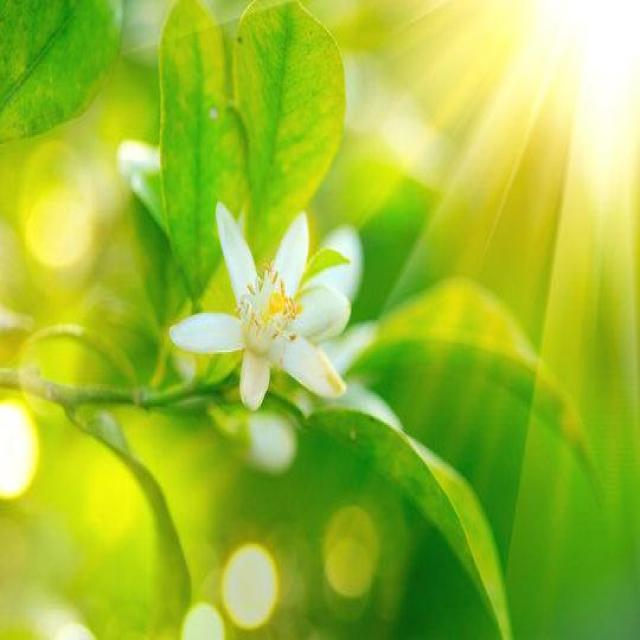Bunga: (170, 199, 342, 411)
